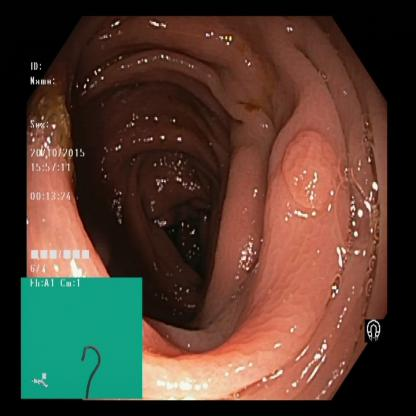Labels: (27, 50, 120, 278), (20, 274, 143, 402)
Polyps: (286, 116, 344, 224)
